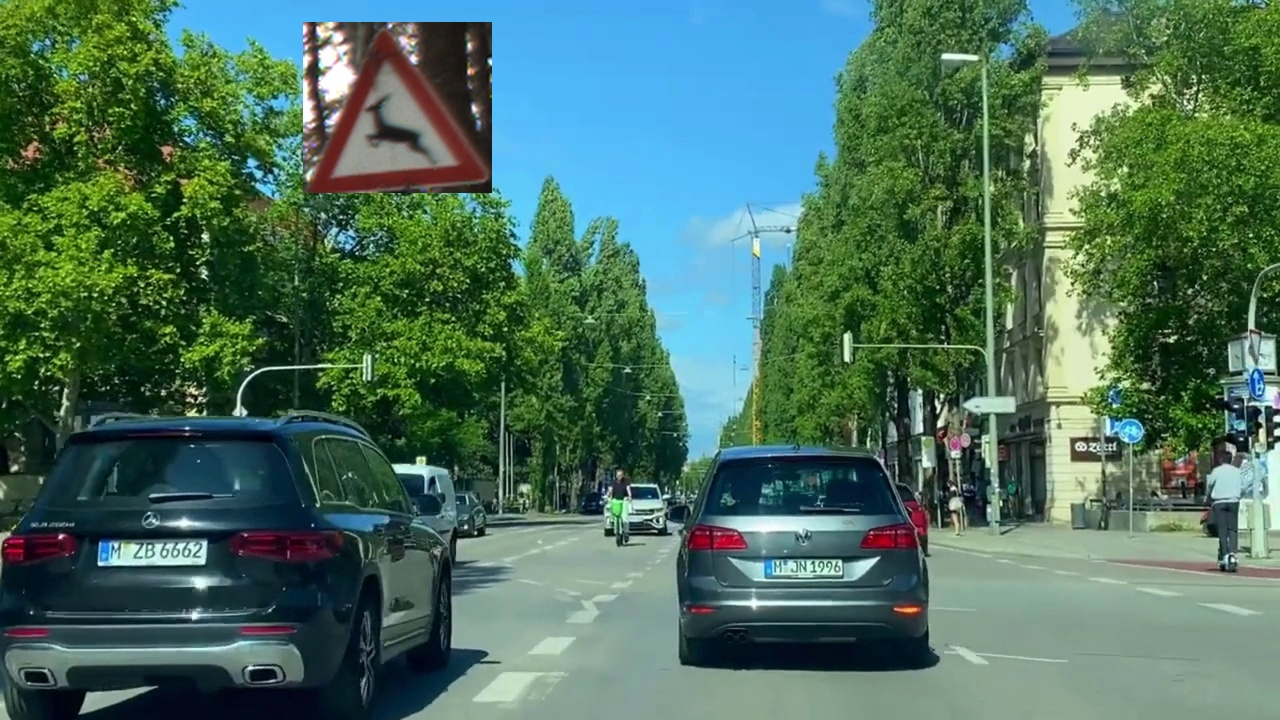Wild animals: (303, 22, 492, 193)
